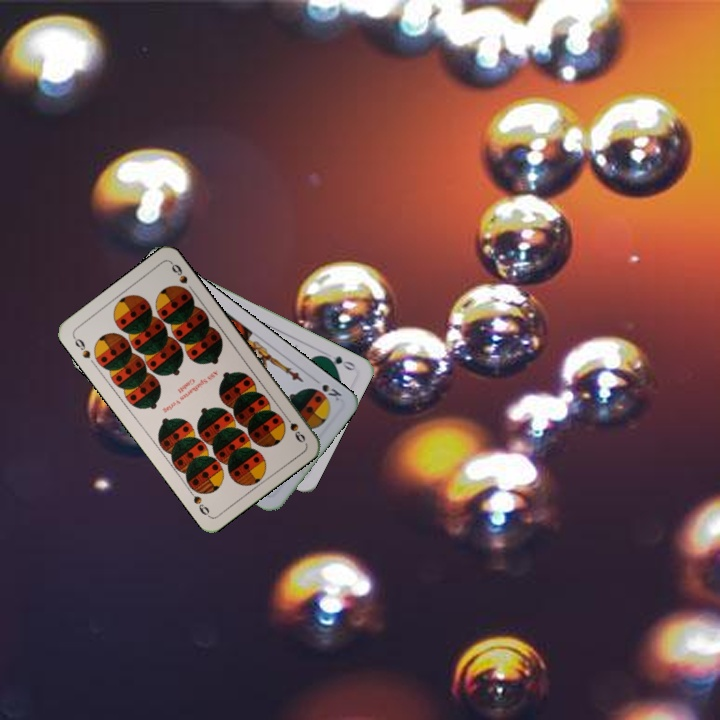GO: (319, 352, 358, 373)
S9: (280, 410, 308, 445), (69, 332, 93, 361)
SK: (318, 380, 344, 405)
